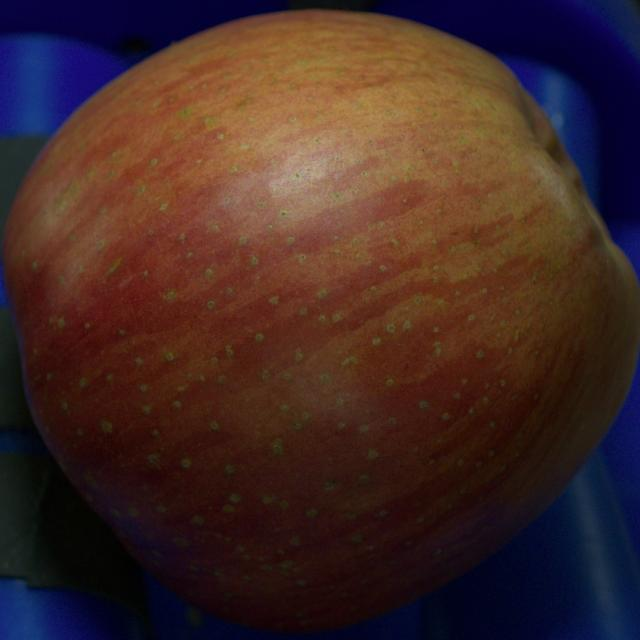apple: (2, 10, 639, 632)
